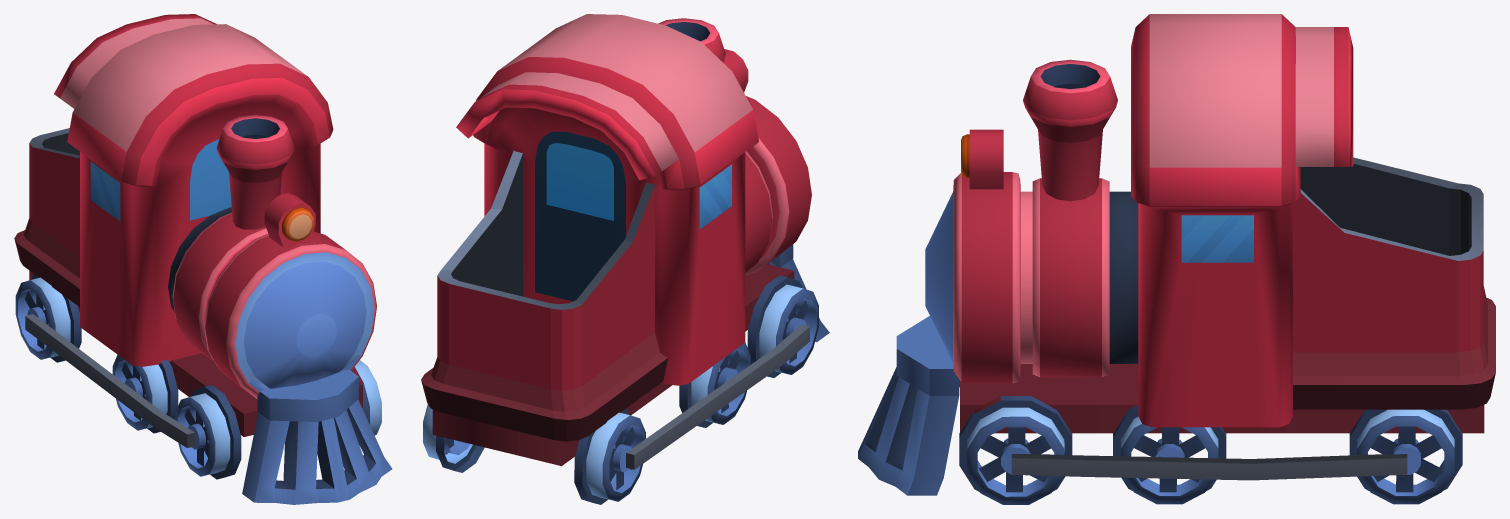
File: train-Locomotive1.fbx
3 views of the same model, side by side, from view 1: azimuth 30°, elevation 25°; view 2: azimuth 150°, elevation 25°; view 3: azimuth 270°, elevation 25° (orthographic). The views are drawn at different scales.
Visible parts, largest first — view 1: train-locomotive; view 2: train-locomotive; view 3: train-locomotive.
Part boxes in pixels (x1=…): train-locomotive: x1=14, y1=14, x2=392, y2=504; train-locomotive: x1=421, y1=14, x2=829, y2=504; train-locomotive: x1=858, y1=14, x2=1495, y2=504.
Size of the model in its own units: 160 by 252 by 340.
